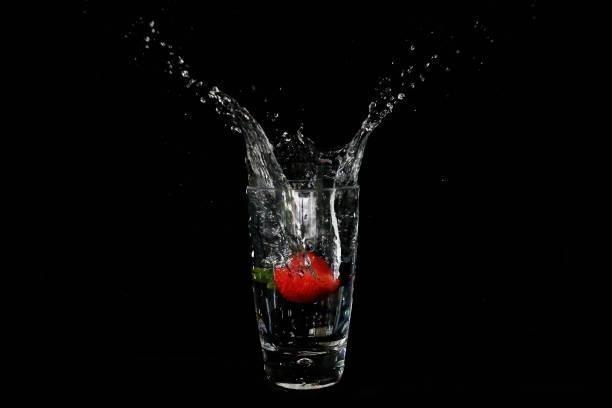glass-normal: (243, 177, 363, 392)
